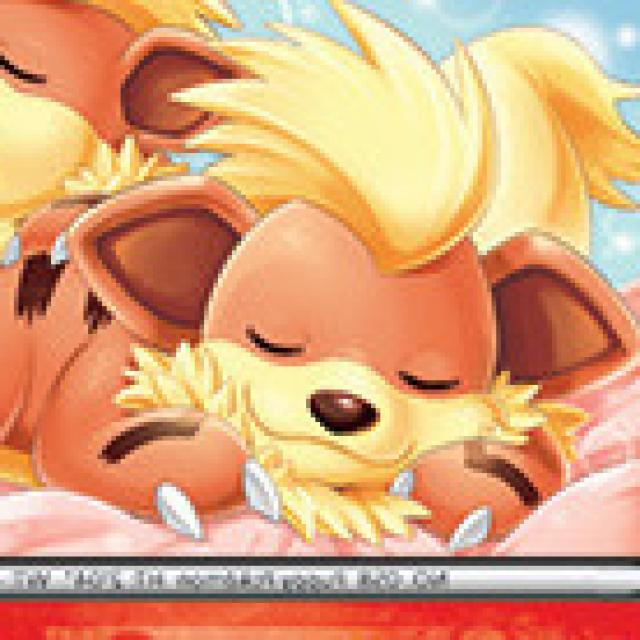Growlithe: (57, 194, 599, 509)
